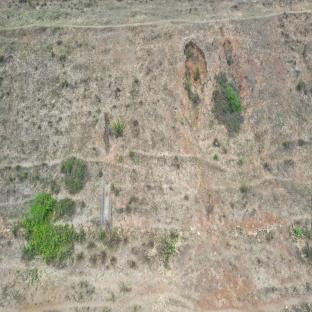slope_drain: (97, 178, 111, 245)
vegetation: (20, 187, 85, 272)
